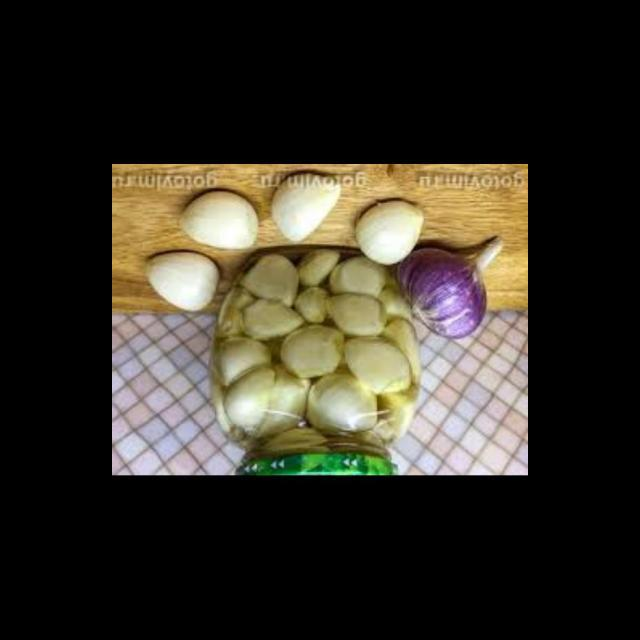garlic: (206, 254, 424, 446), (398, 238, 507, 352), (266, 168, 347, 254), (136, 247, 222, 323), (178, 190, 264, 256), (351, 201, 423, 268)
